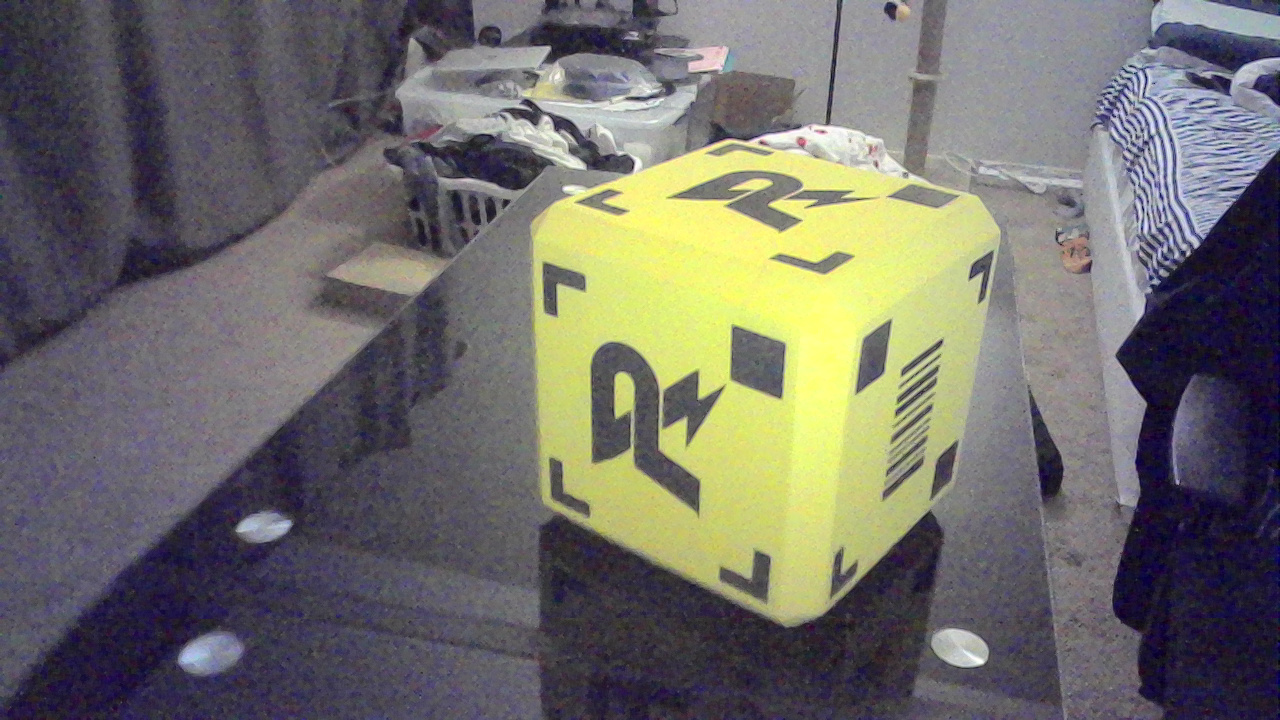Barcode: (889, 341, 957, 511)
R: (588, 328, 738, 524), (673, 167, 883, 238)
